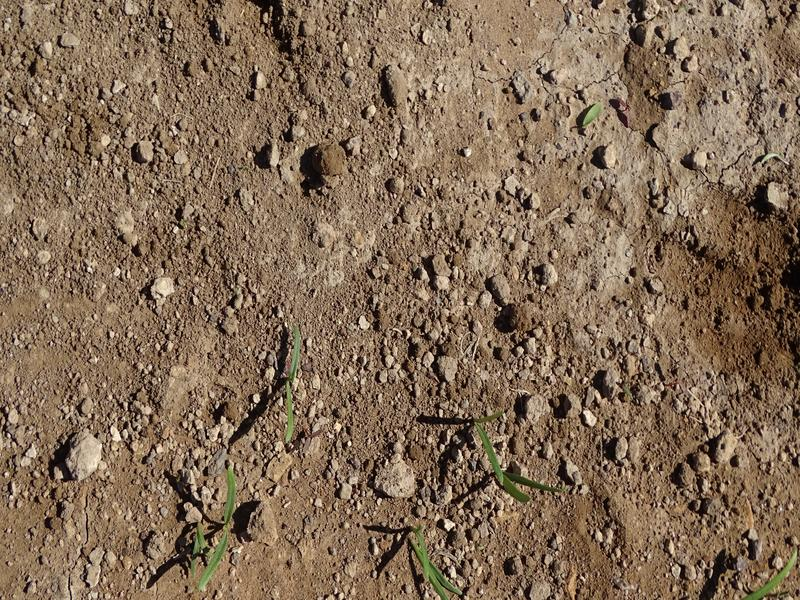Espinaca: (473, 401, 564, 504), (180, 463, 240, 592), (402, 529, 465, 599), (280, 323, 304, 444)
